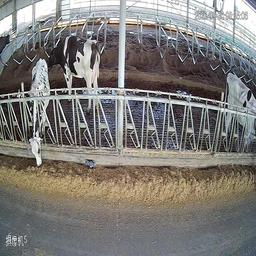cow: (49, 35, 103, 111), (27, 56, 51, 166), (225, 70, 255, 148)
